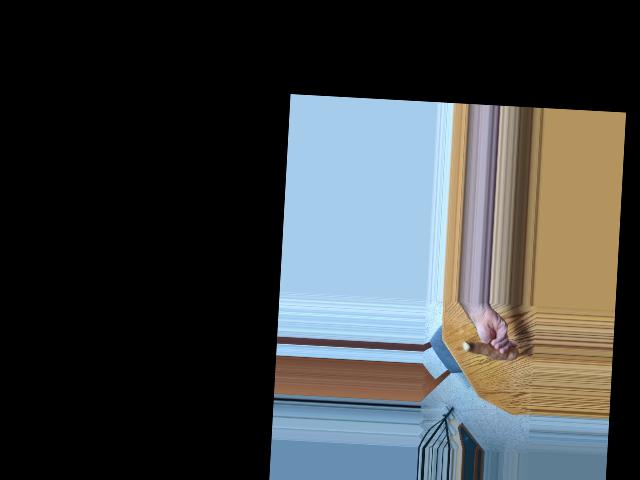sweet_potato: (463, 335, 520, 363)
